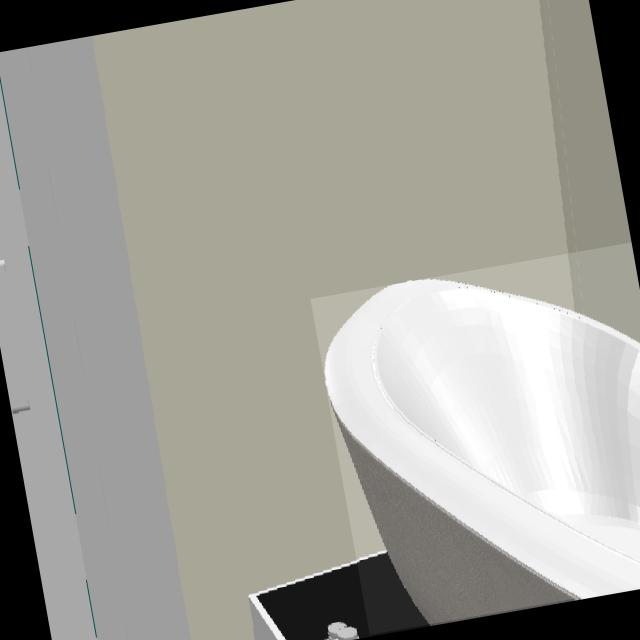bathtube: (324, 282, 640, 625)
